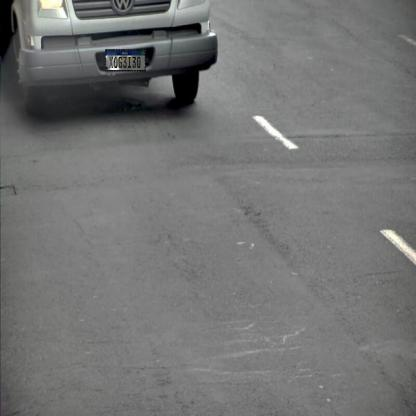PlacaM: (105, 50, 146, 72)
